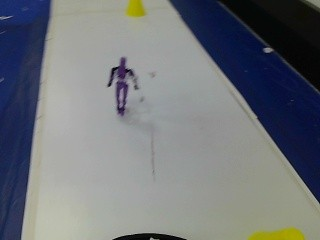pedestrian: (104, 51, 142, 119)
